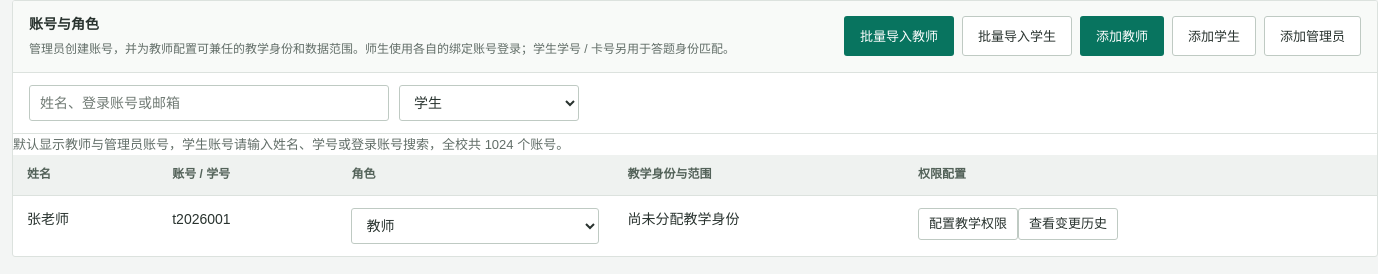
Test case: filters by role and falls back to the explicit empty state
The width and height of the screenshot is (1378, 274).
Select "学生" in the dropdown named "按角色筛选账号" at (489, 103), box 399,85 -> 579,121
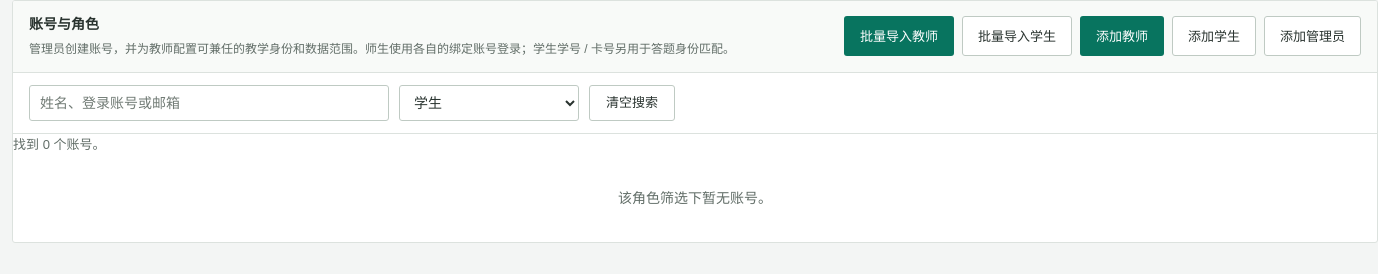
Expected: the text "该角色筛选下暂无账号。" is shown, 618,190 -> 772,206
